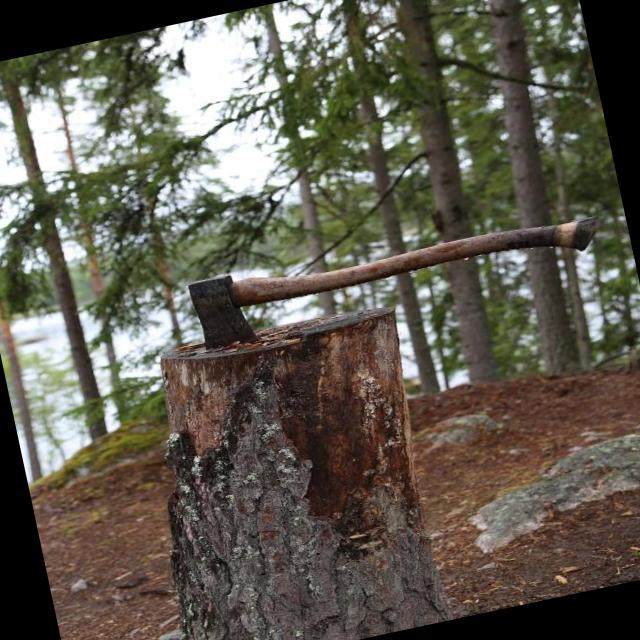Axe: (189, 217, 598, 349)
